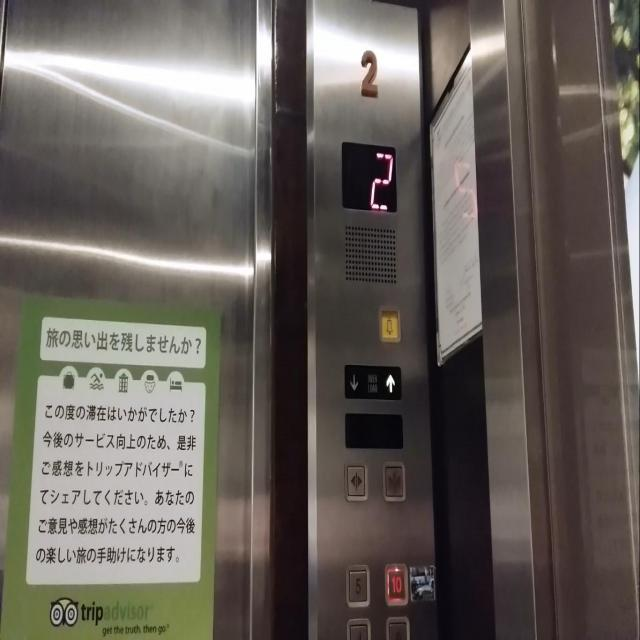10: (384, 562, 409, 608)
5: (344, 561, 370, 608)
alarm: (378, 304, 402, 345)
close: (381, 458, 406, 504)
led: (339, 134, 397, 214)
open: (342, 457, 368, 504)
speaker: (343, 220, 398, 288)
